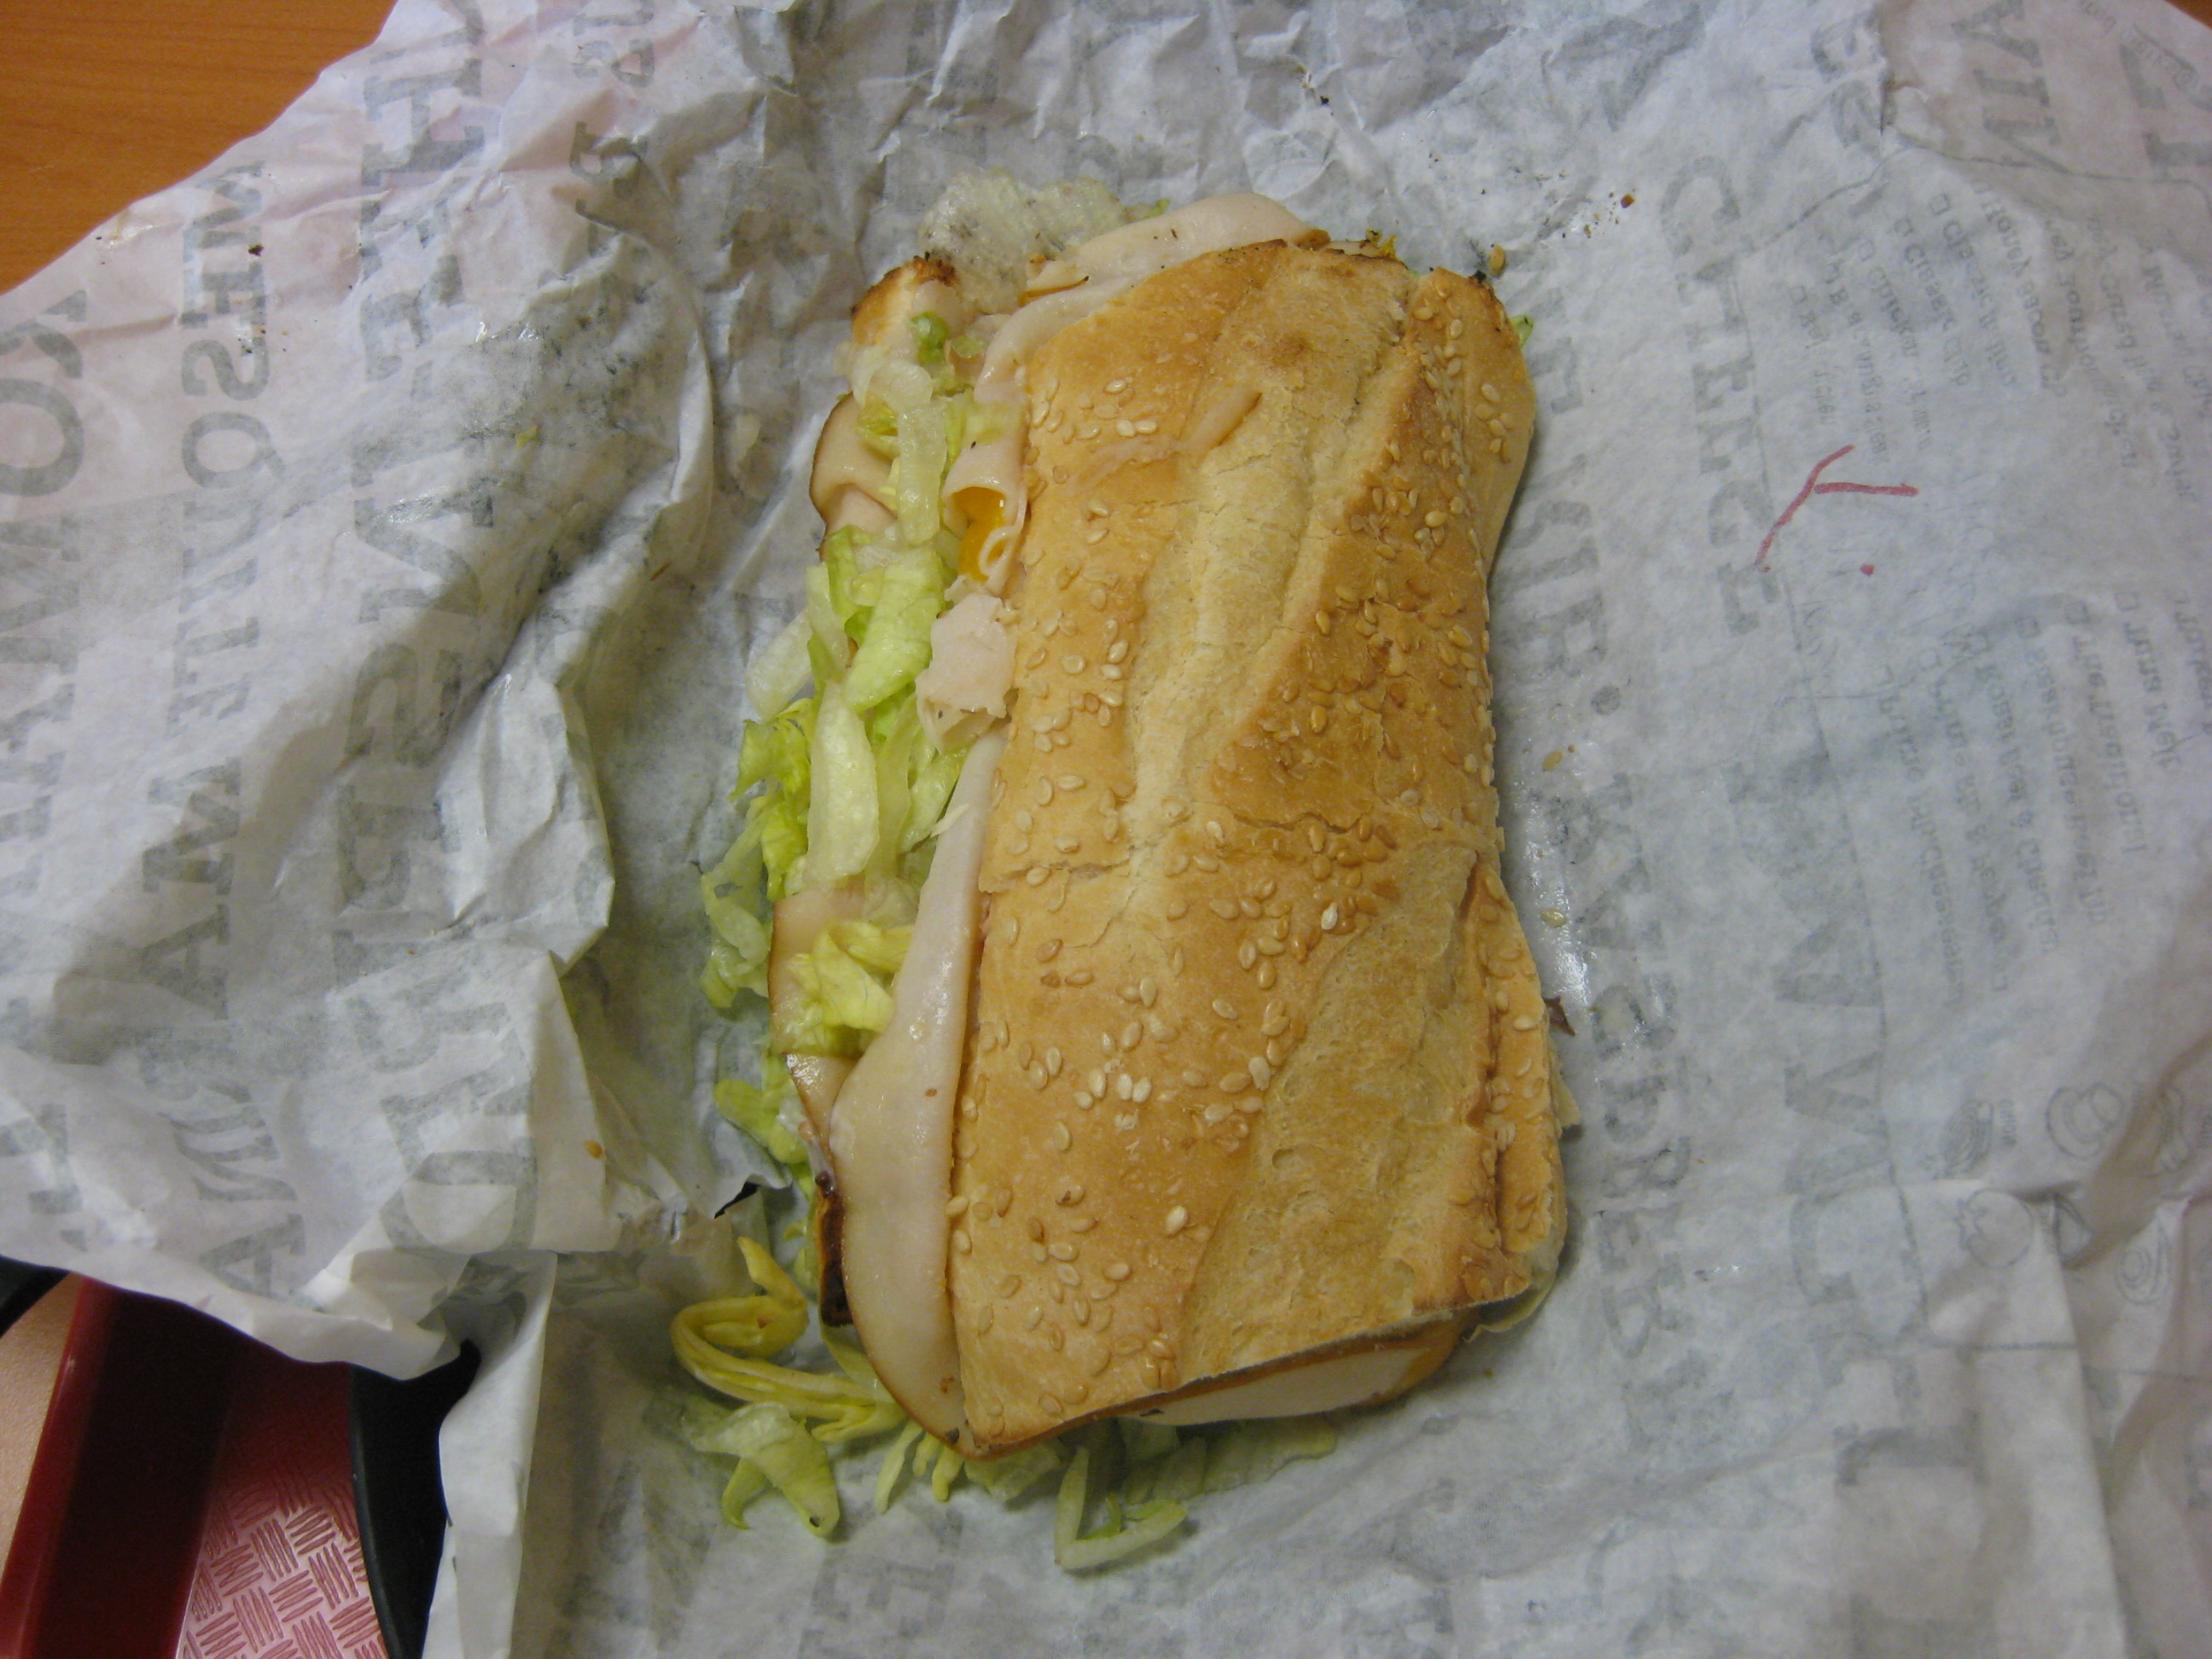sub: (792, 248, 1594, 1482)
